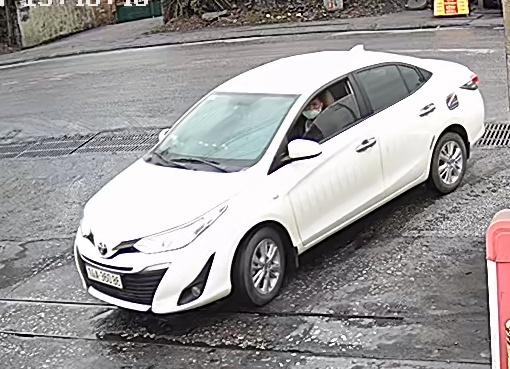vehicle plate: (80, 264, 128, 290)
